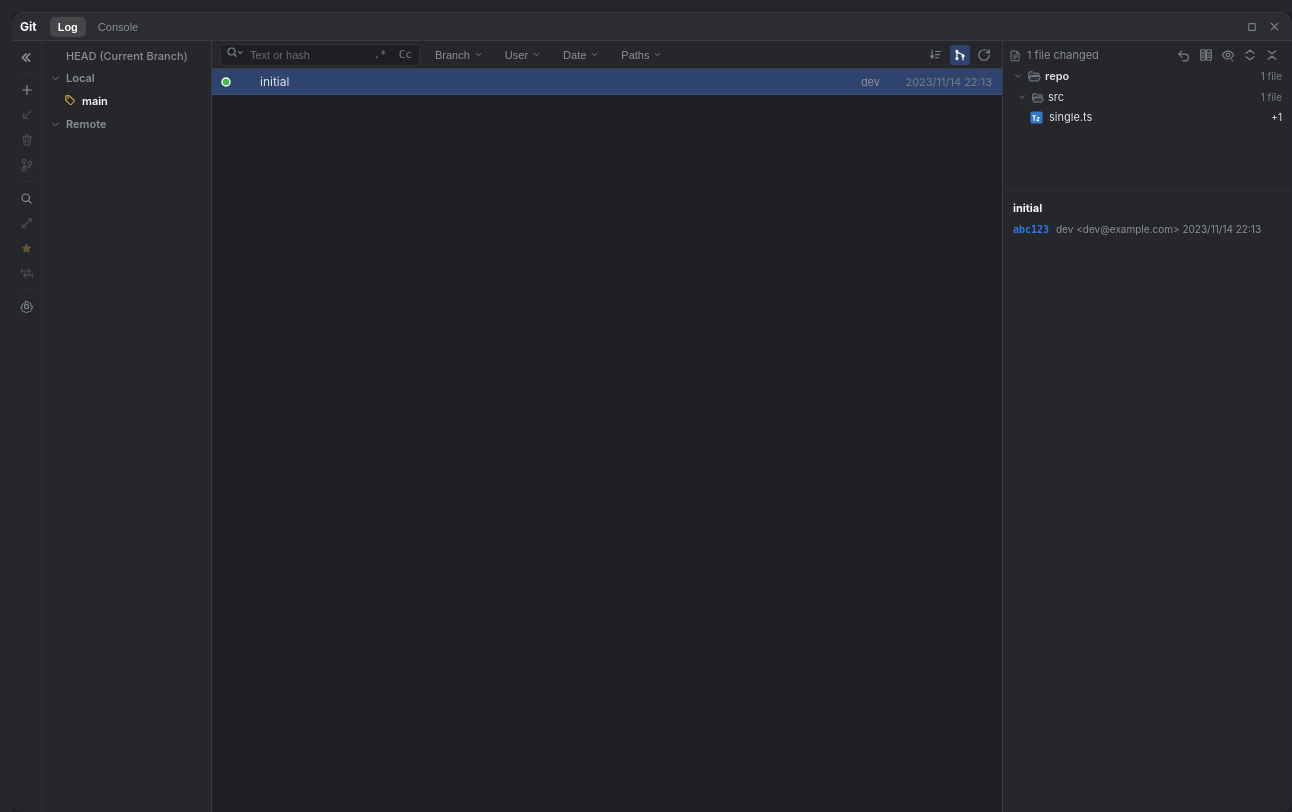
Test: GitBottomPanel branch tree › toggles Group By Directory with ^P when the log panel has focus
Expected: the text "src" is shown, [1048,90,1064,104]
Press the mouse on the element that starts with "Git": {"x": 652, "y": 412} [12,12,1291,811]
Press p in the element that starts with "Git"
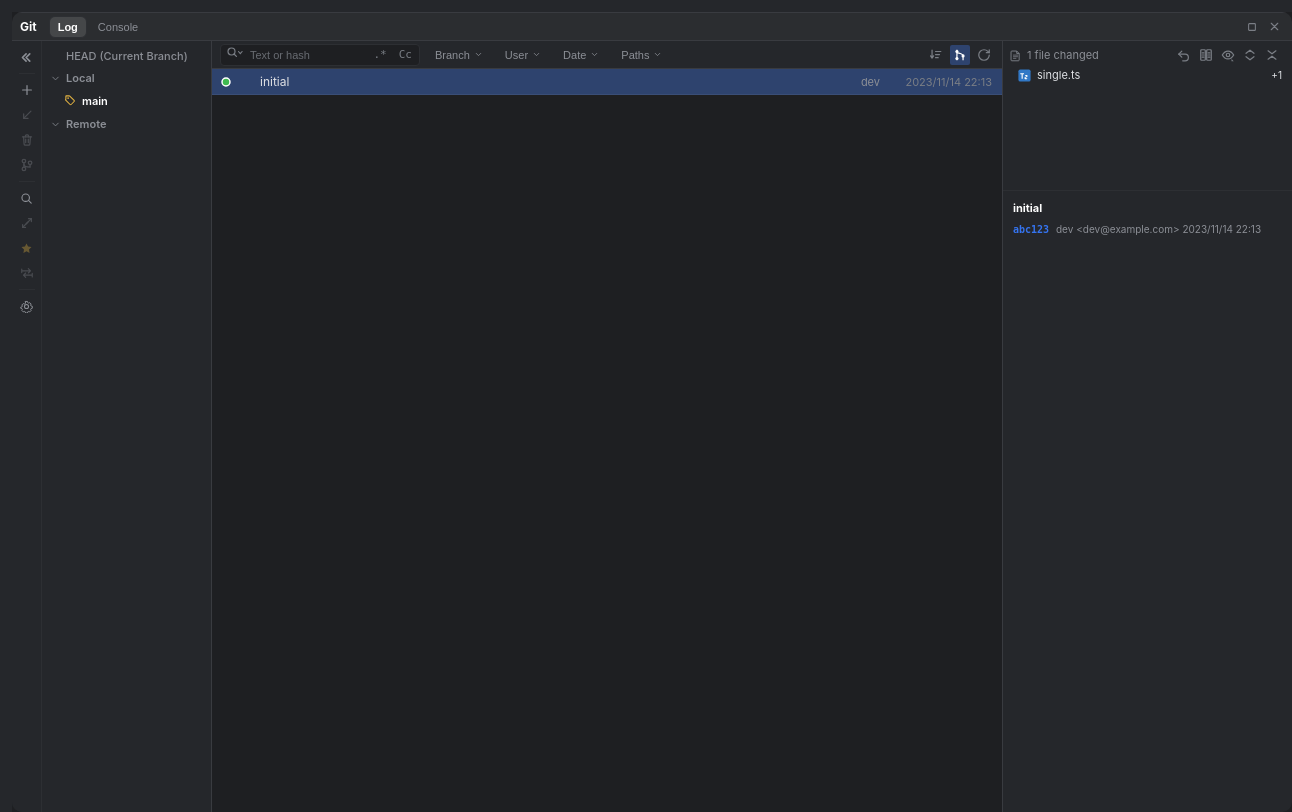
Expected: the text "single.ts" is shown, [1037,68,1080,82]
Expected: the text "src" is gone
Note: ⌘P 与 ^P 等价（跨平台键位）
Press p in the element that starts with "Git"
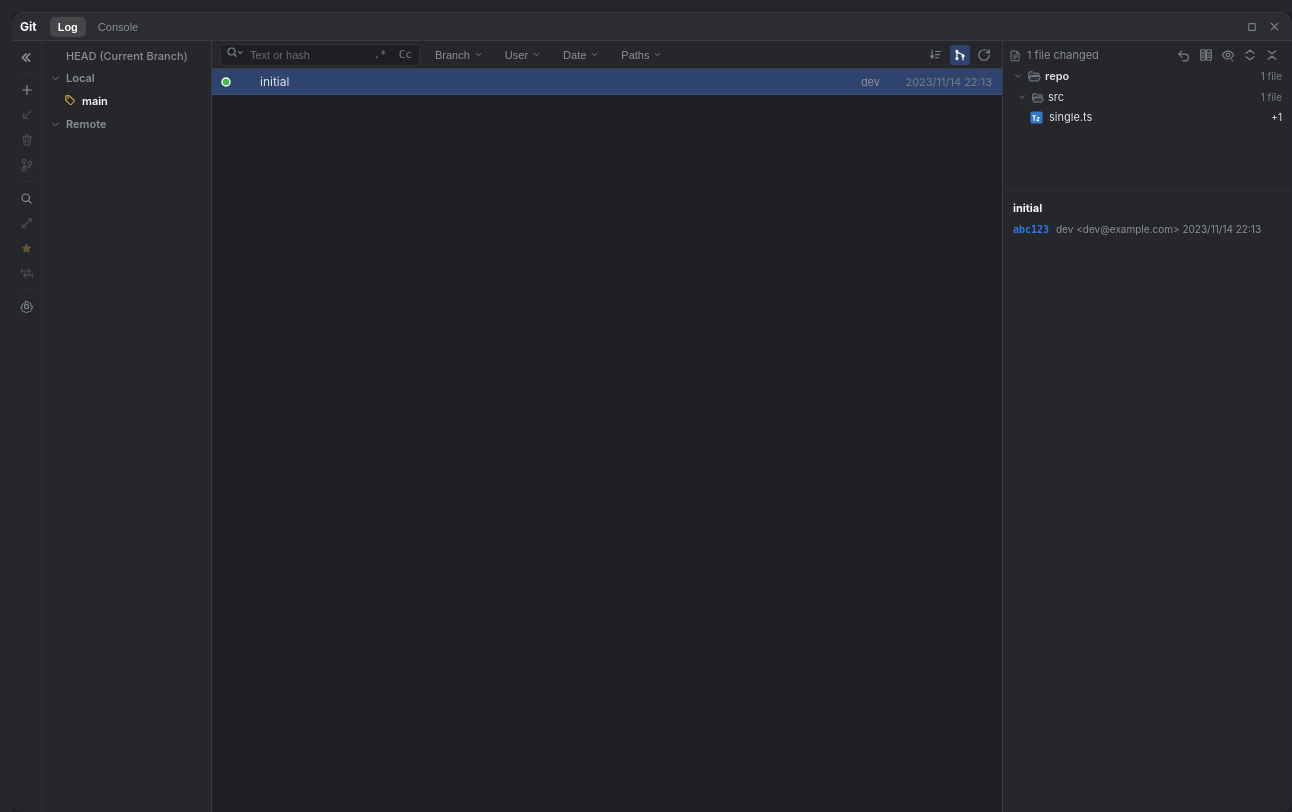
Expected: the text "src" is shown, [1048,90,1064,104]
